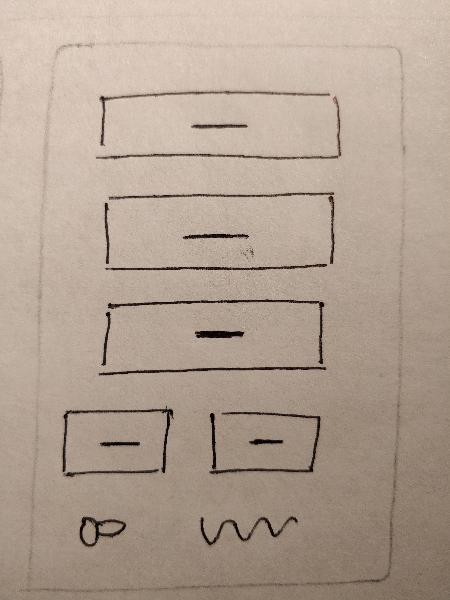button: (88, 76, 349, 168), (91, 292, 337, 382), (91, 190, 348, 276), (198, 403, 329, 488), (55, 402, 182, 485)
switch: (61, 508, 137, 551)
text: (187, 506, 304, 556)
